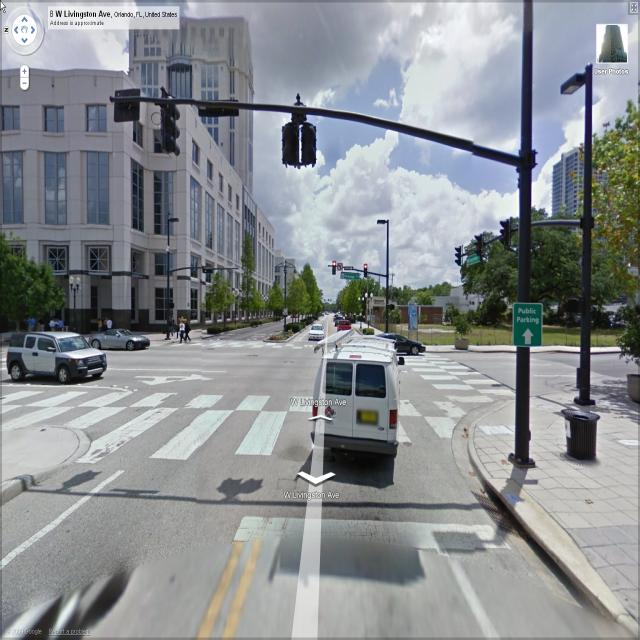b_1: (4, 10, 242, 319), (253, 206, 275, 311), (272, 255, 294, 306)
b_2: (552, 133, 625, 247)
